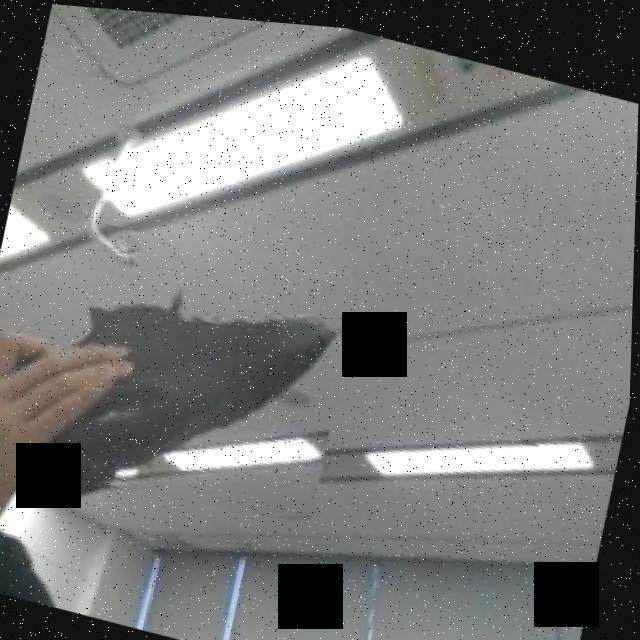shoe: (0, 199, 361, 541)
